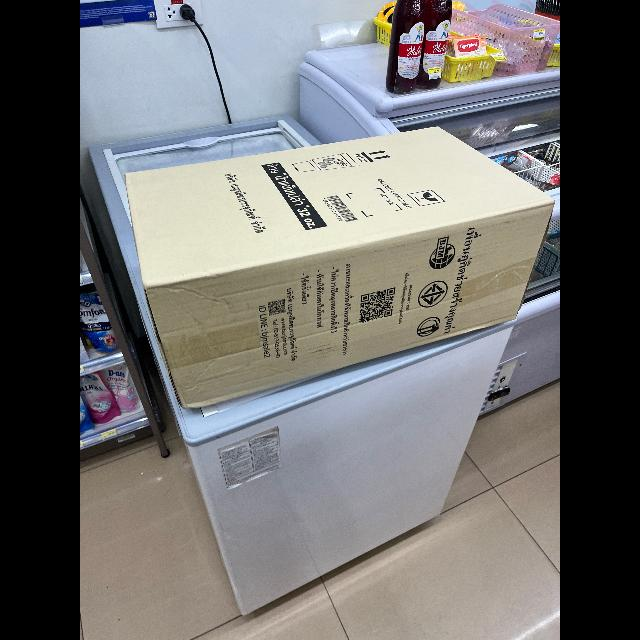cardboard_box: (134, 119, 560, 415)
